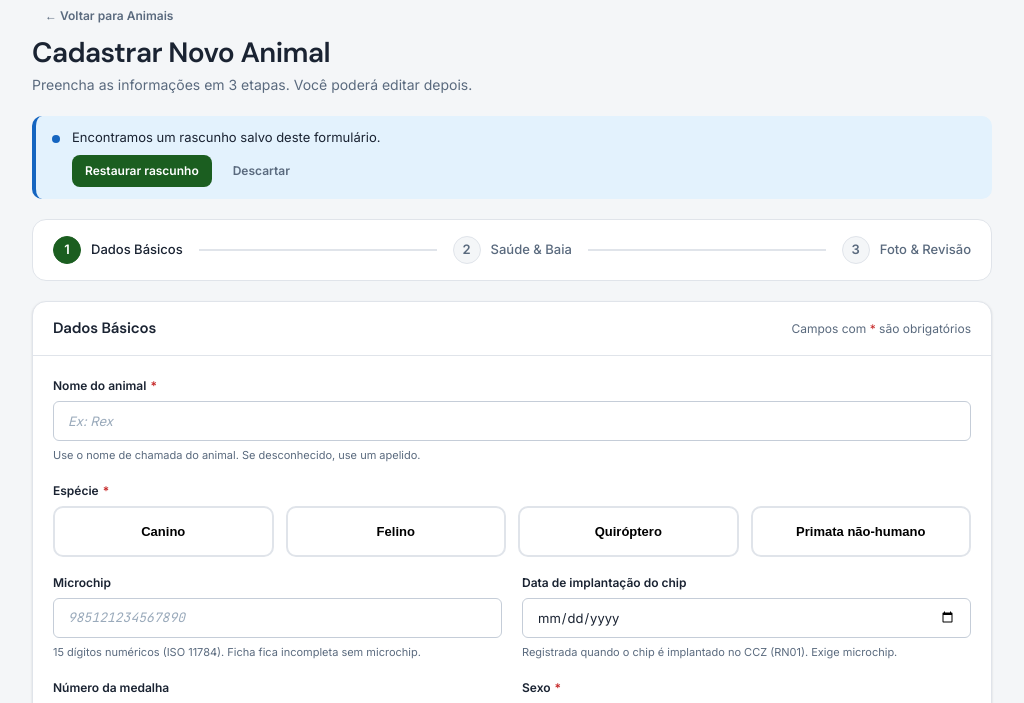
Scenario: AnimalForm — autosave do rascunho › restaura um rascunho salvo no formato anterior à migração, sem lançar erro
Step 1. Click the button "Restaurar rascunho" → (142, 171), box [72,155,212,187]
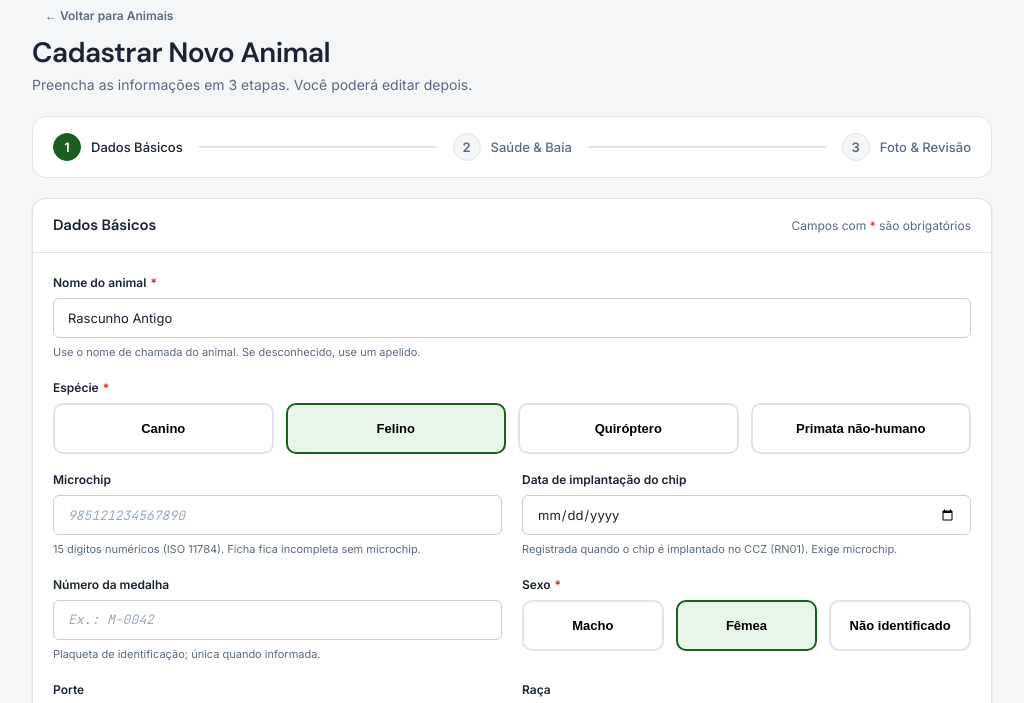
Result: the field labelled "Nome do animal *" holds "Rascunho Antigo" at [53,298,971,338]
